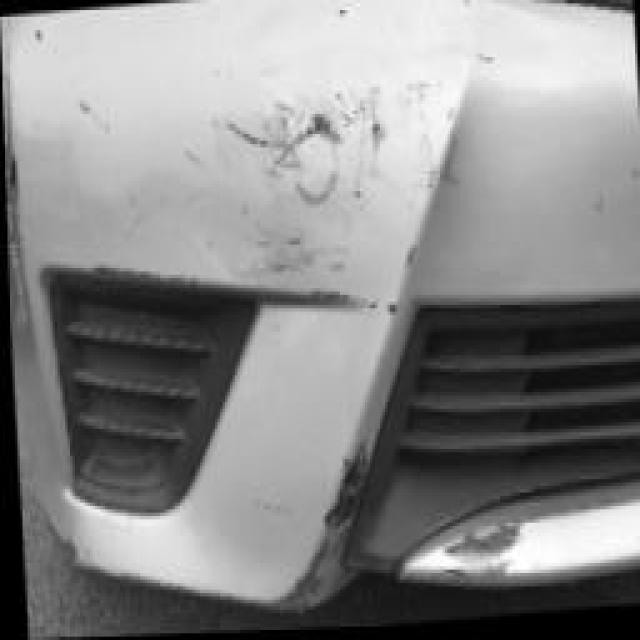Bumper: (172, 13, 523, 329)
